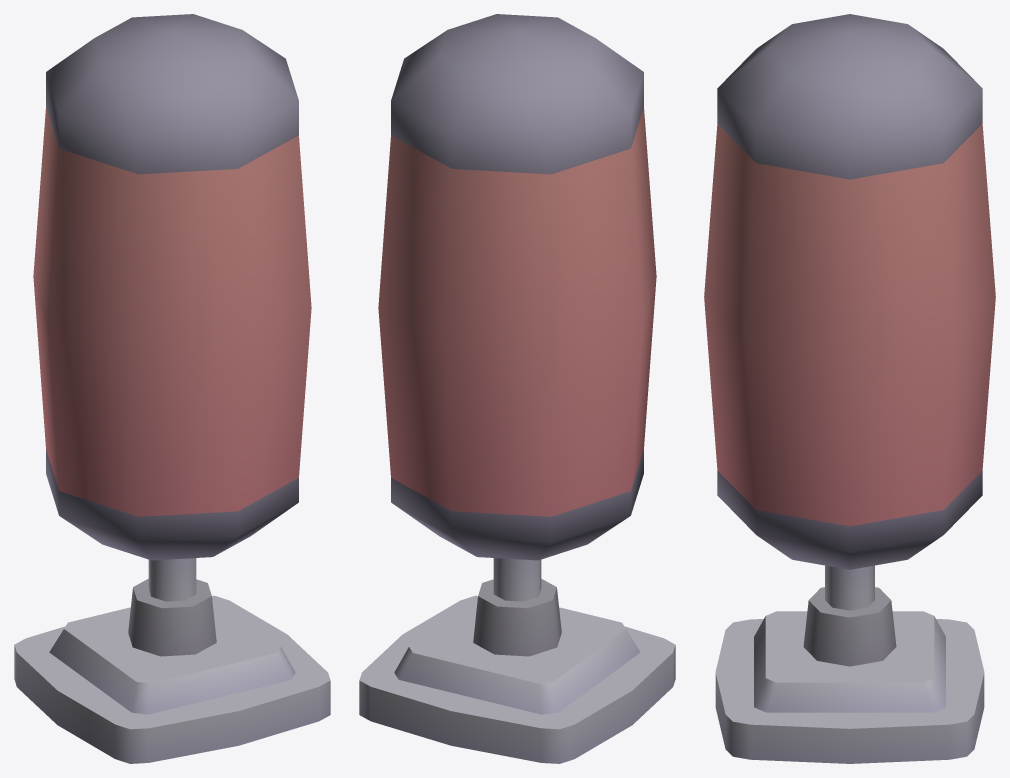
Rendered from fitness-punching-bag.glb.
3 views of the same model, side by side, from view 1: azimuth 30°, elevation 25°; view 2: azimuth 150°, elevation 25°; view 3: azimuth 270°, elevation 25° (orthographic).
Parts seen in each view (by area): view 1: fitness-punching-bag; view 2: fitness-punching-bag; view 3: fitness-punching-bag.
Part boxes in pixels (box(x1,y1,x2,y2)): fitness-punching-bag: box(14, 14, 330, 763); fitness-punching-bag: box(359, 14, 675, 763); fitness-punching-bag: box(704, 14, 995, 763).
Bounding box in the file's own units: 0.4534 × 1.16 × 0.4534.
